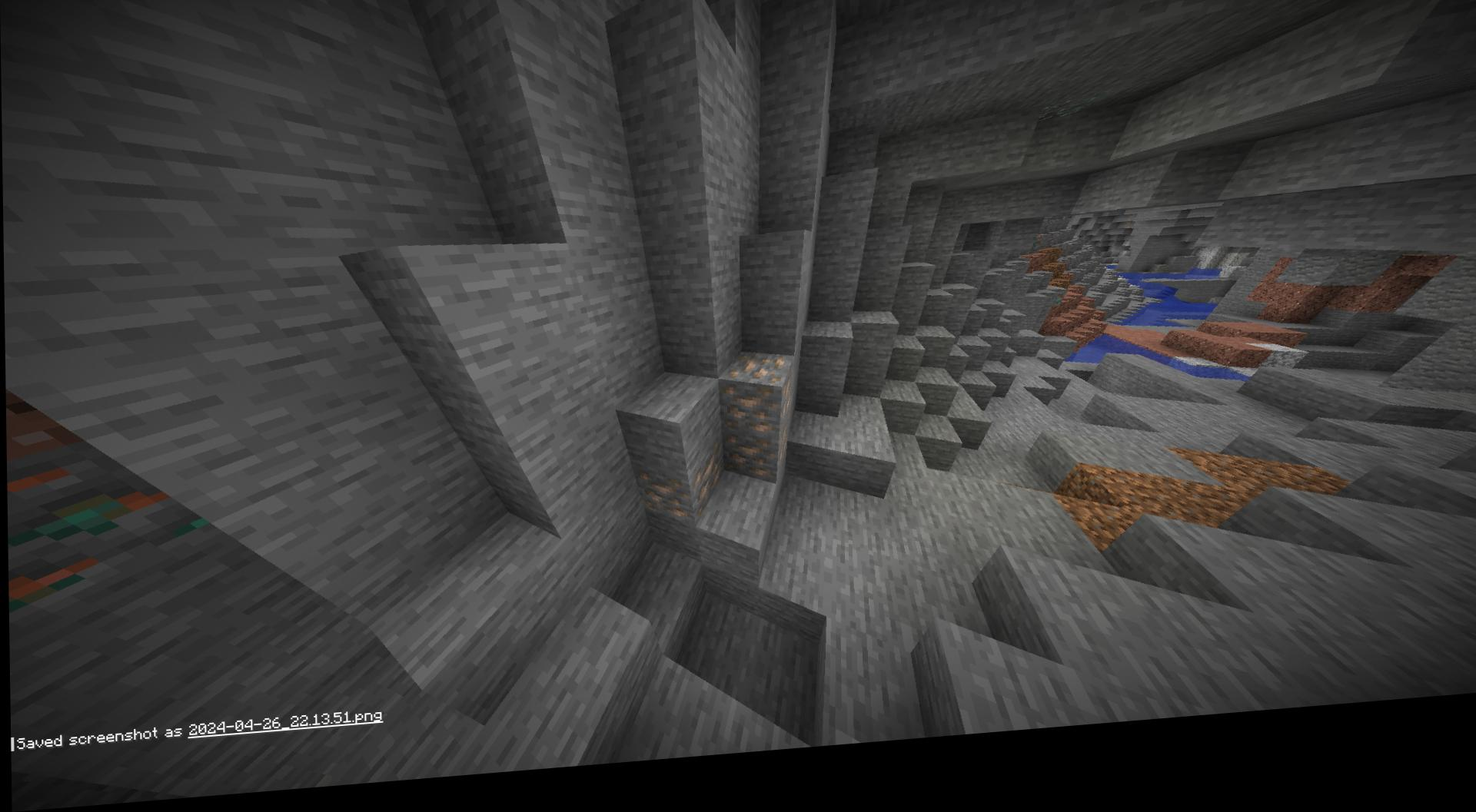iron ore: (721, 363, 792, 439), (640, 467, 719, 532), (719, 434, 789, 495)
